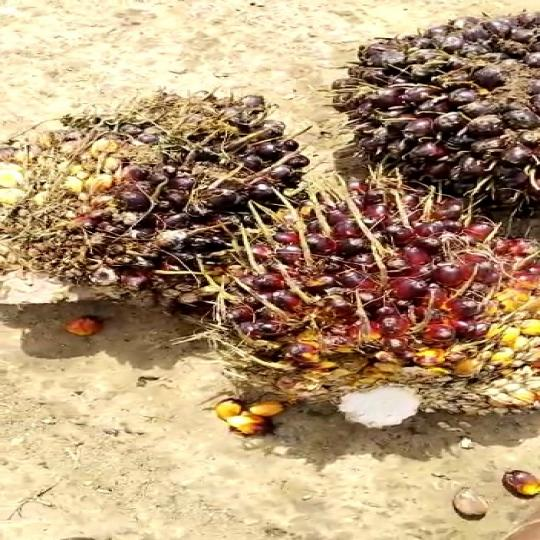kurang masak: (228, 176, 538, 445), (0, 95, 287, 309), (323, 6, 540, 208)
